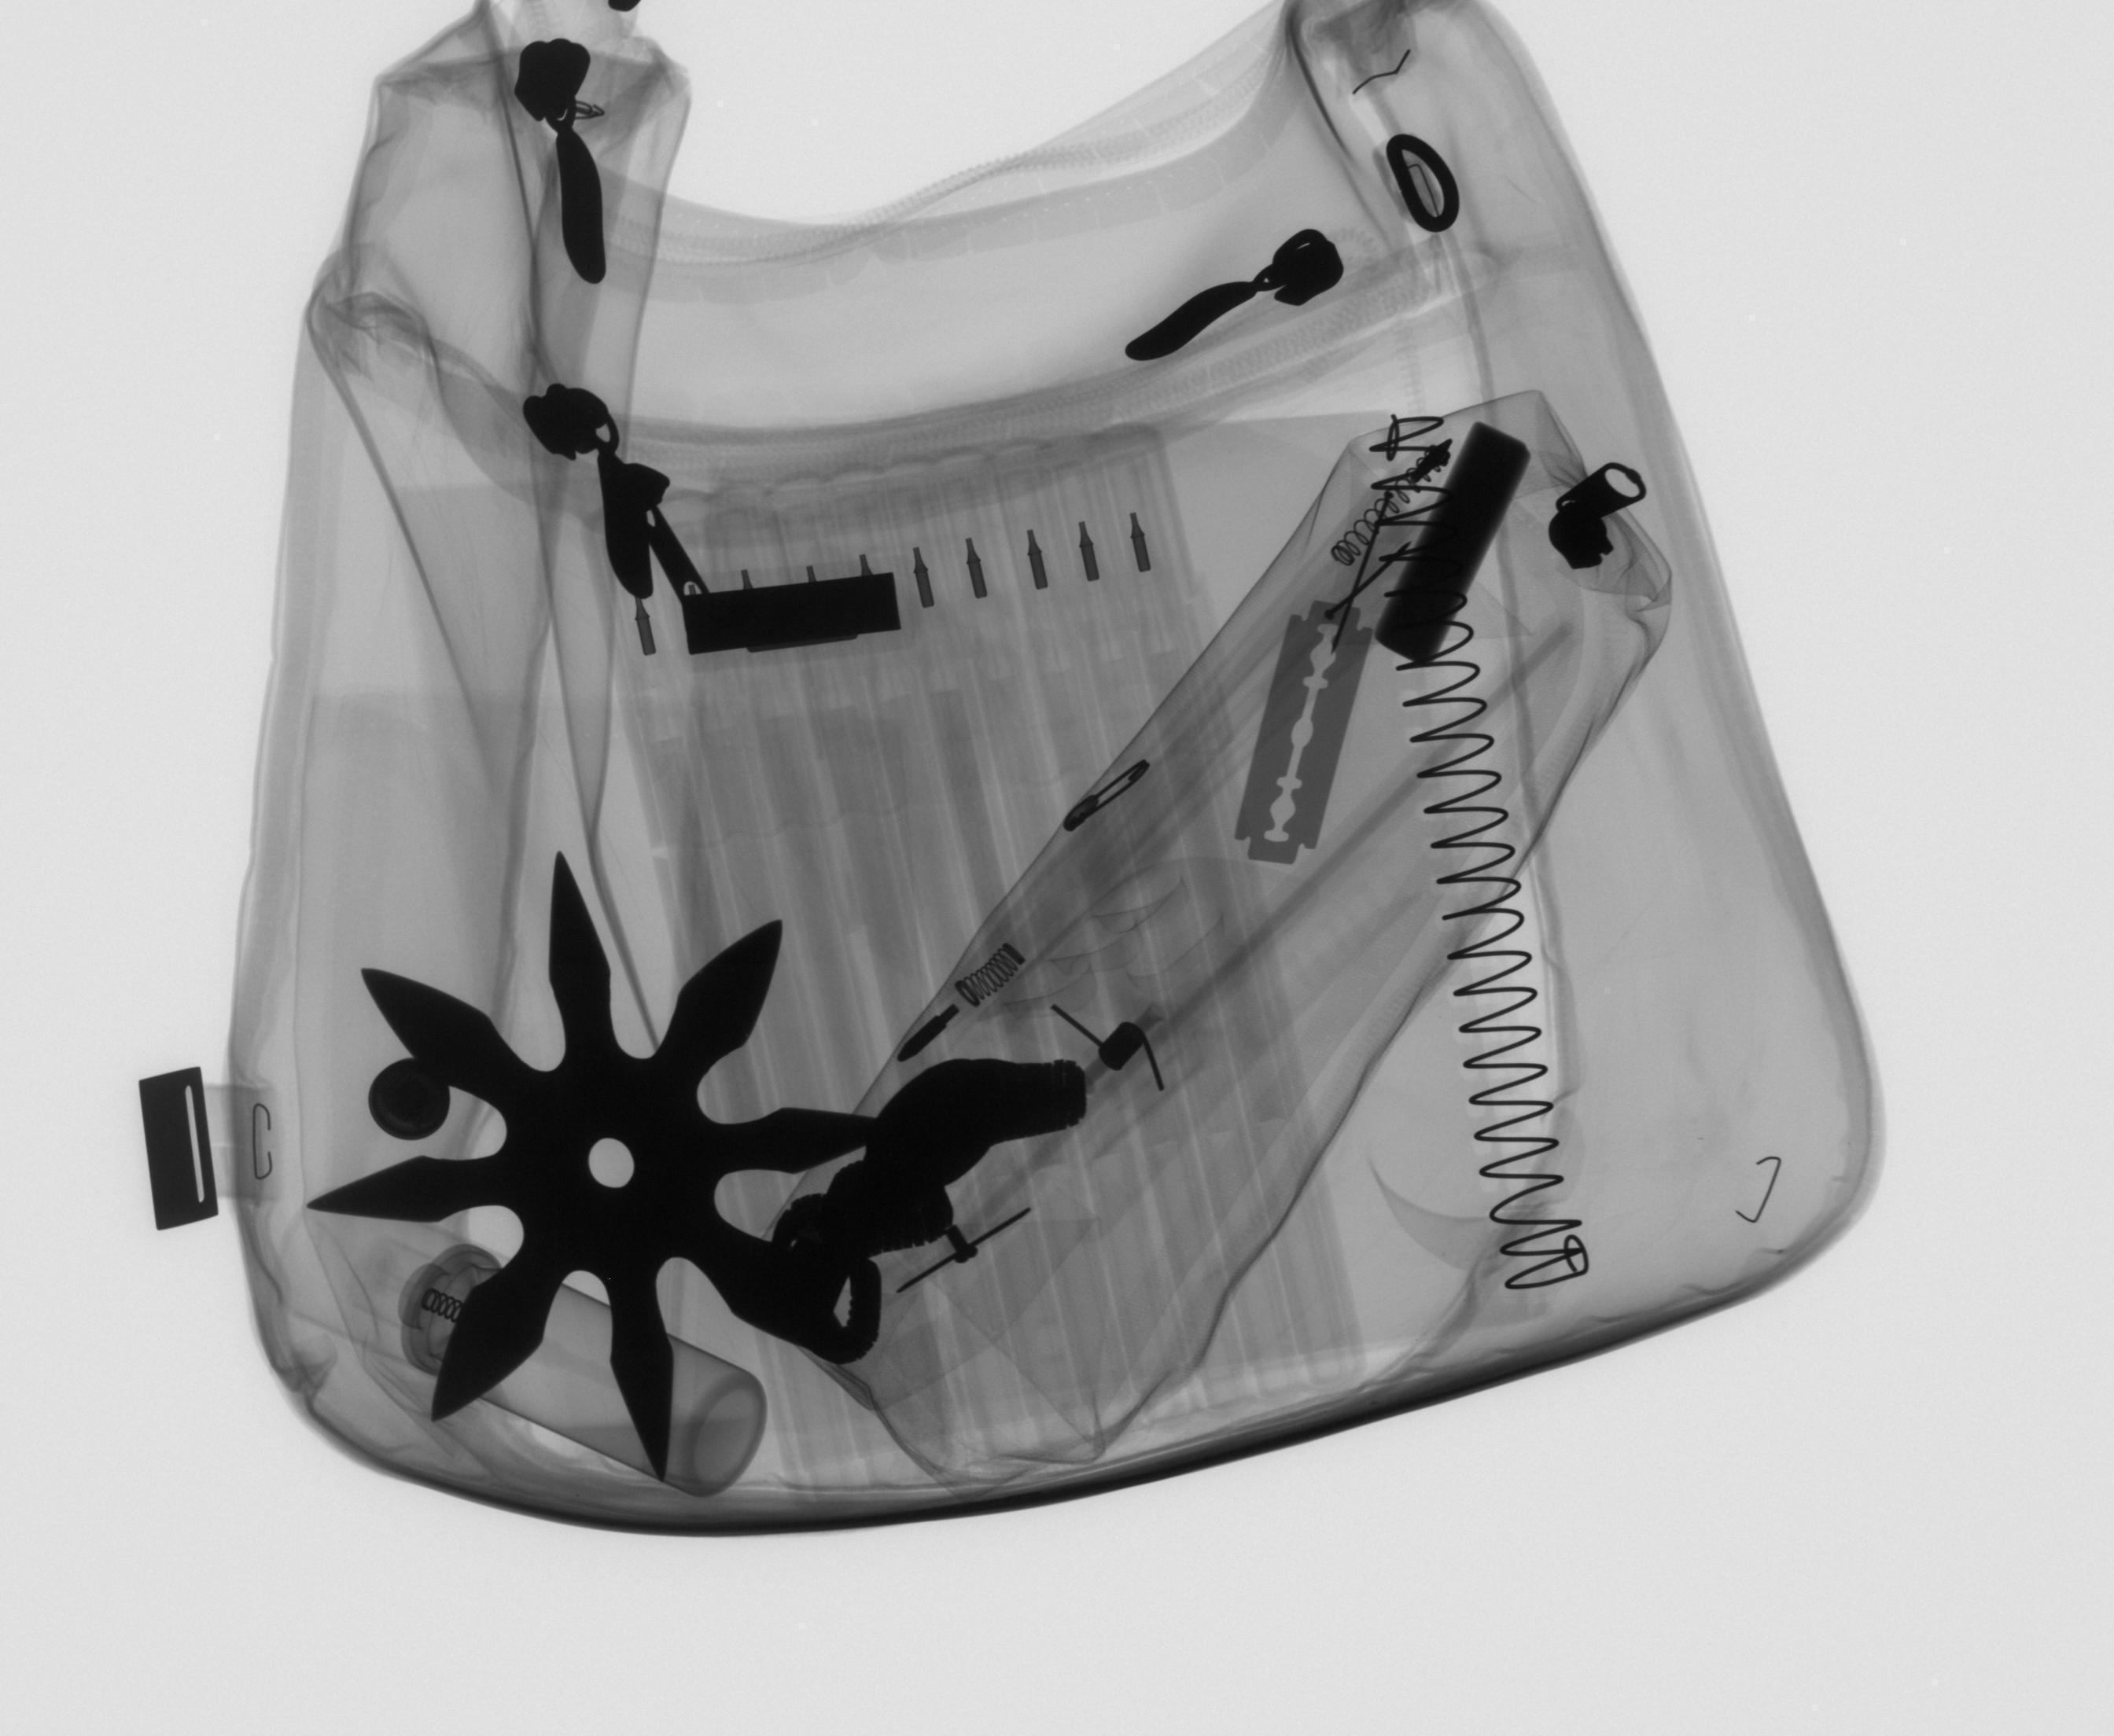RazorBlade: (1226, 595, 1377, 871)
Shuriken: (291, 843, 922, 1494)
